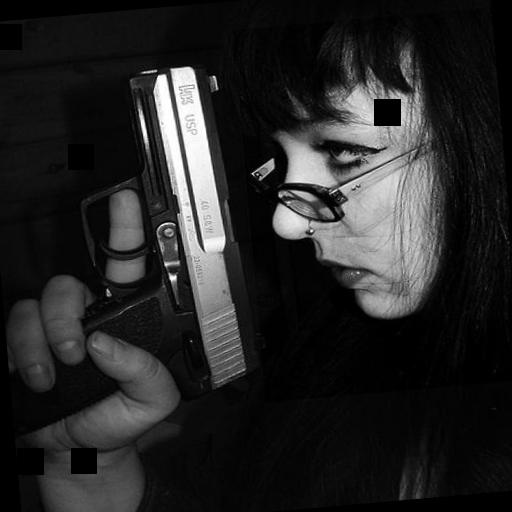Handgun: (0, 58, 266, 436)
